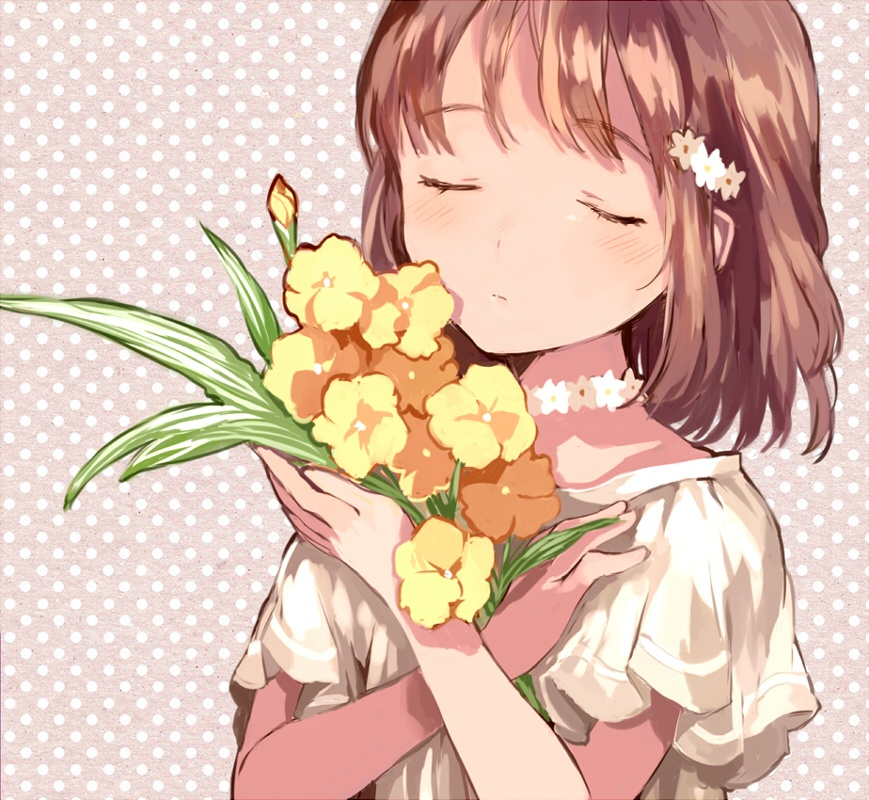纸片人正脸: (368, 7, 758, 368)
